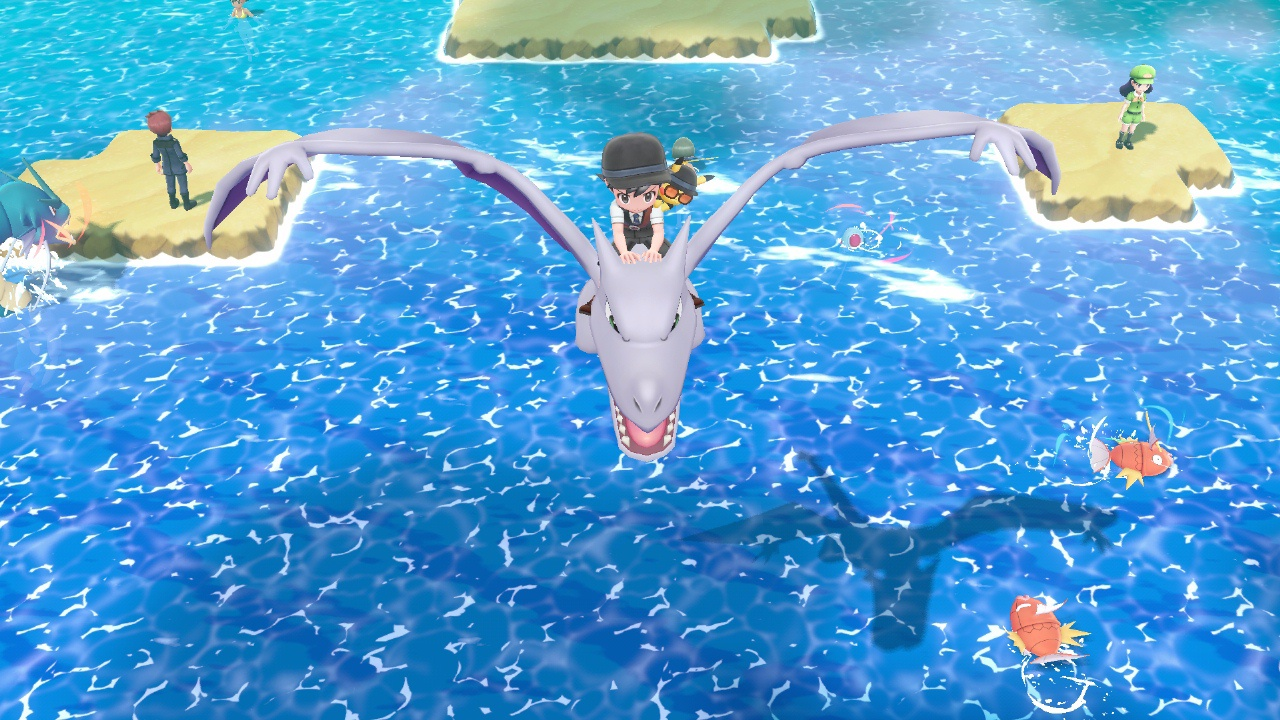Red: (1006, 592, 1091, 664), (1086, 430, 1171, 487)
